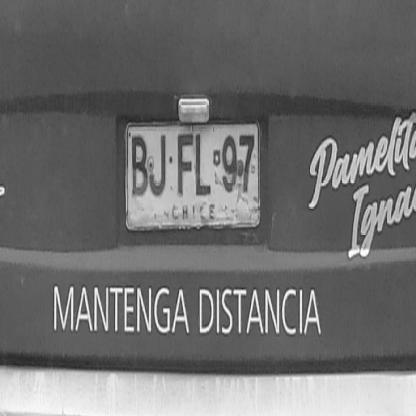Patente: (122, 112, 265, 244)
